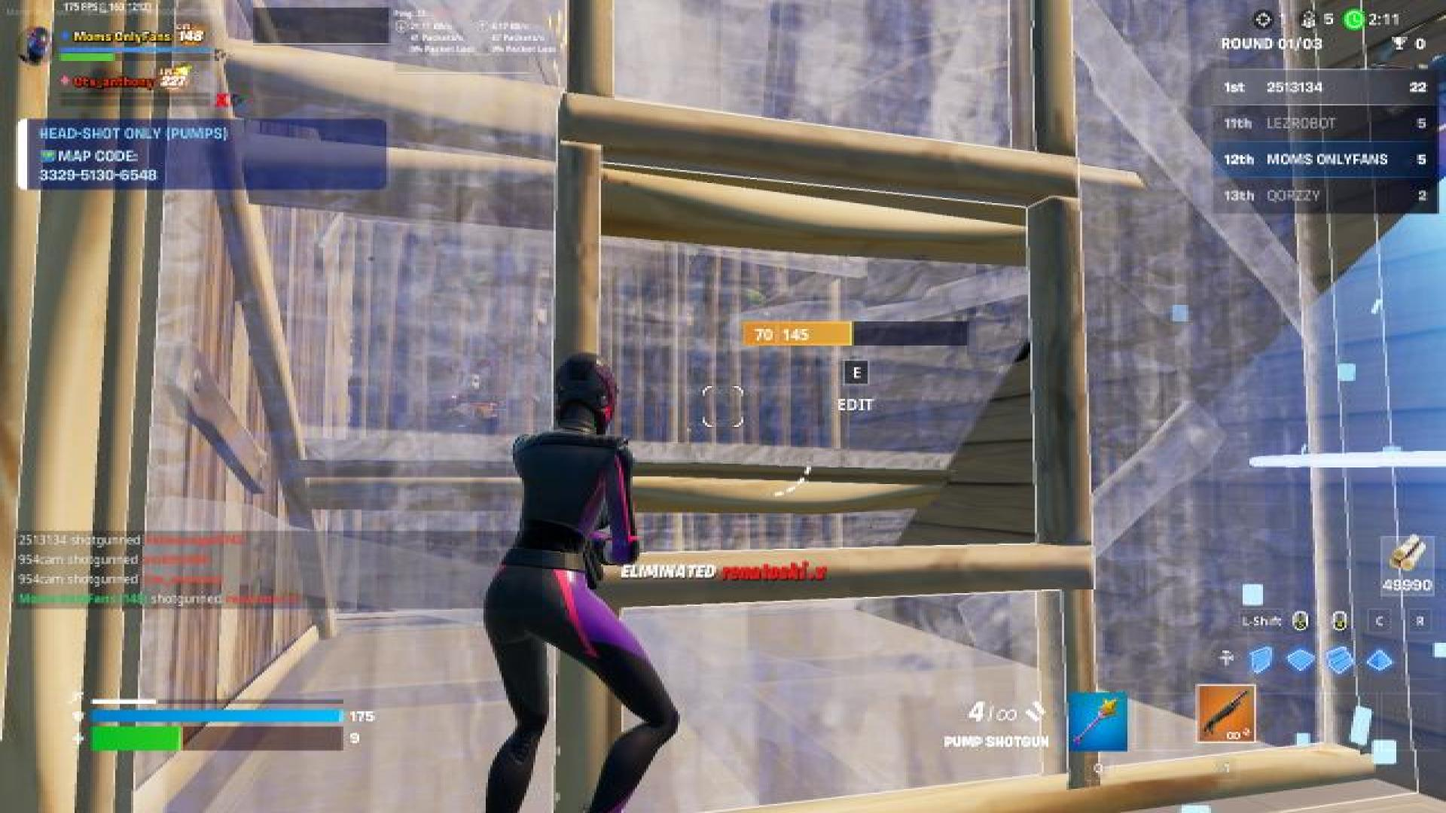player: (419, 353, 509, 556)
